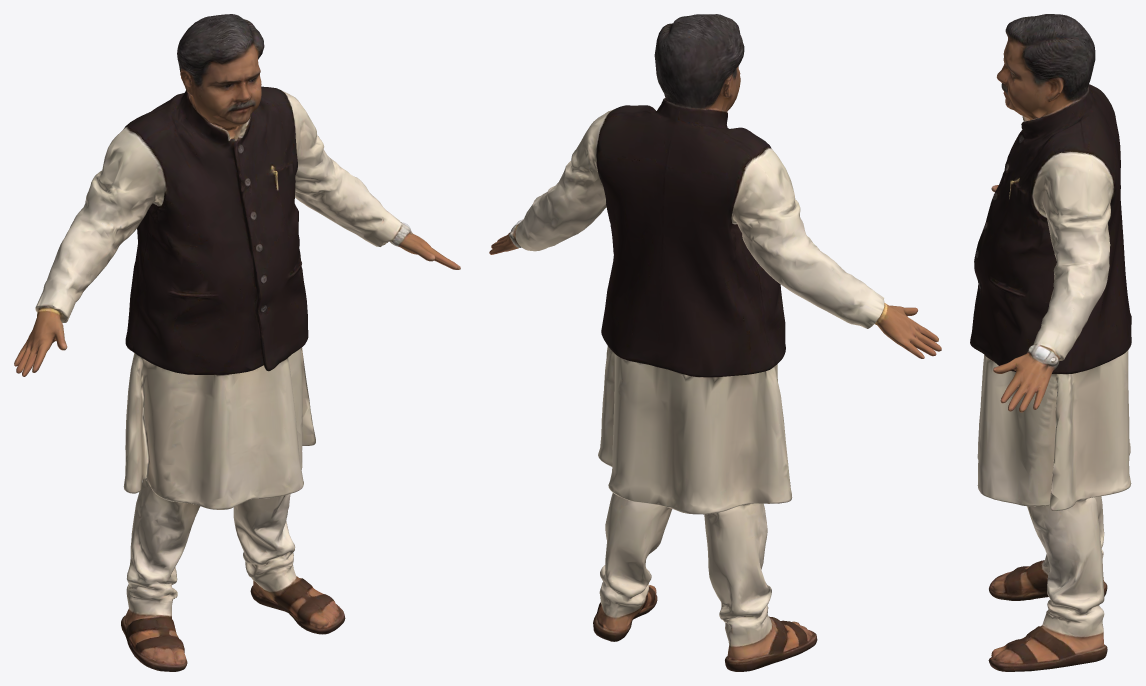
File: npc-businessman.glb
The picture shows the model from 3 angles, left to right: view 1: azimuth 30°, elevation 25°; view 2: azimuth 150°, elevation 25°; view 3: azimuth 270°, elevation 25°; orthographic projection.
Parts seen in each view (by area): view 1: SK_NPC_Businessman; view 2: SK_NPC_Businessman; view 3: SK_NPC_Businessman.
Boxes of the visible parts, x1,y1,x2,y2 form: SK_NPC_Businessman: (14, 14, 460, 671); SK_NPC_Businessman: (489, 14, 941, 671); SK_NPC_Businessman: (970, 14, 1131, 671).
Size of the model in its own units: 142 by 190 by 45.4.
1 material, 1 textured.
